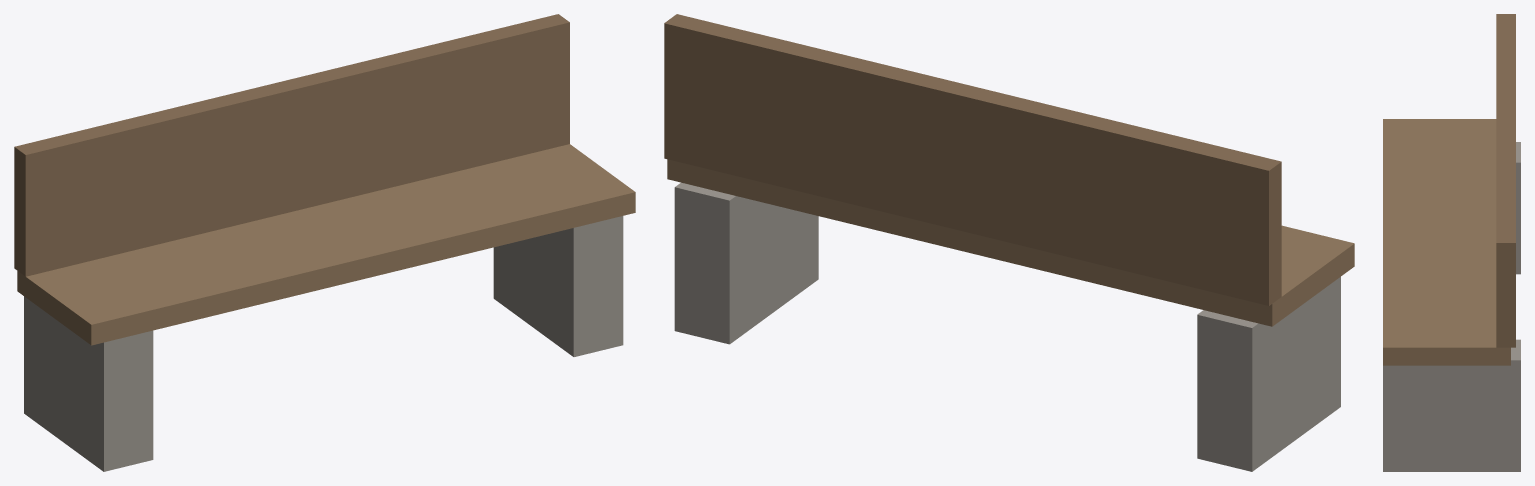
Rendered from bench.glb.
3 views of the same model, side by side, from view 1: azimuth 30°, elevation 25°; view 2: azimuth 150°, elevation 25°; view 3: azimuth 270°, elevation 25° (orthographic). The views are drawn at different scales.
Visible parts, largest first — view 1: bench; view 2: bench; view 3: bench.
Part boxes in pixels (x1,y1,x2,y2): bench: (14,14,635,471); bench: (664,14,1354,471); bench: (1383,14,1520,471).
Size of the model in its own units: 2.2 by 1.05 by 0.56.
